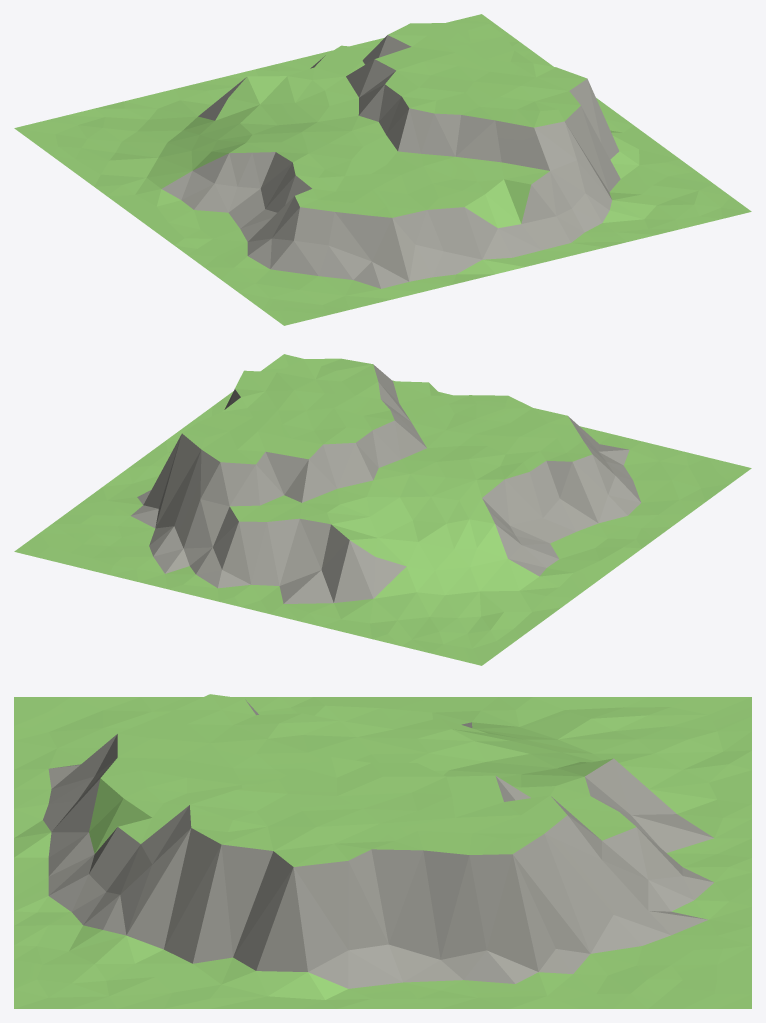
Rendered from terrain001.fbx.
3 views of the same model, one above another, from view 1: azimuth 30°, elevation 25°; view 2: azimuth 150°, elevation 25°; view 3: azimuth 270°, elevation 25° (orthographic). The views are drawn at different scales.
Parts seen in each view (by area): view 1: CPT_Terrain_M_f_21; view 2: CPT_Terrain_M_f_21; view 3: CPT_Terrain_M_f_21.
Part boxes in pixels (left/top/right/bottom): CPT_Terrain_M_f_21: left=14, top=14, right=751, bottom=325; CPT_Terrain_M_f_21: left=14, top=354, right=751, bottom=665; CPT_Terrain_M_f_21: left=14, top=694, right=751, bottom=1008.
Size of the model in its own units: 5000 by 5000 by 771.
1 material, 1 textured.
